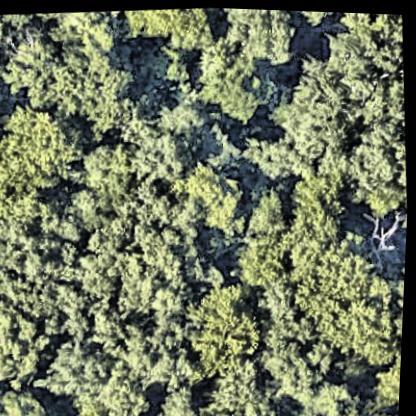tree-top: (252, 230, 406, 369), (4, 27, 138, 129), (0, 202, 91, 320), (300, 26, 409, 122), (104, 225, 215, 319), (0, 99, 86, 215), (105, 300, 204, 385), (187, 276, 269, 370), (190, 34, 276, 122), (274, 57, 348, 159), (341, 118, 411, 217), (183, 152, 250, 232), (224, 7, 304, 68), (129, 120, 195, 190), (42, 331, 105, 402), (260, 329, 324, 398), (119, 3, 214, 48), (75, 134, 139, 200), (232, 219, 292, 288), (290, 170, 354, 228), (212, 353, 273, 413), (85, 369, 157, 416), (0, 307, 41, 387), (241, 125, 299, 180), (243, 178, 294, 234), (149, 89, 208, 137), (73, 248, 122, 303), (35, 7, 115, 40), (303, 375, 362, 416), (339, 10, 403, 46), (374, 341, 404, 409), (0, 381, 57, 416), (156, 380, 205, 416), (387, 272, 407, 342), (285, 8, 341, 27), (0, 11, 37, 37), (0, 14, 9, 61)
